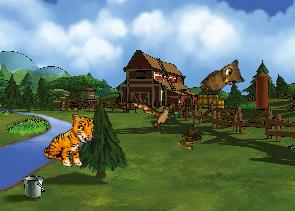eagle: (129, 91, 182, 135)
owl: (197, 55, 250, 106)
tiger: (42, 109, 97, 171)
